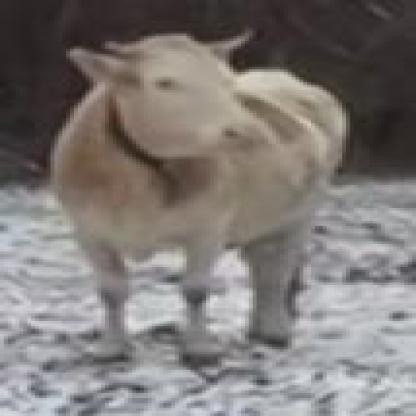cow: (54, 27, 346, 368)
